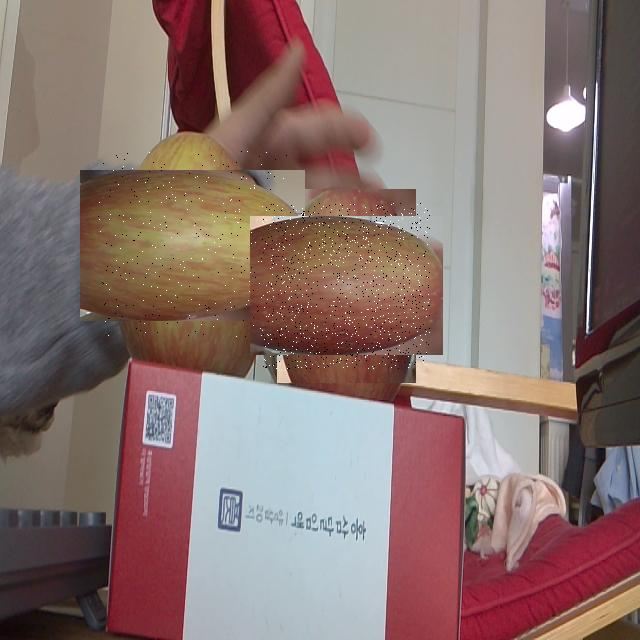apple: (98, 151, 287, 340), (263, 203, 430, 369)
